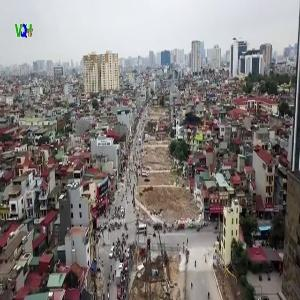drone: (164, 97, 212, 145)
